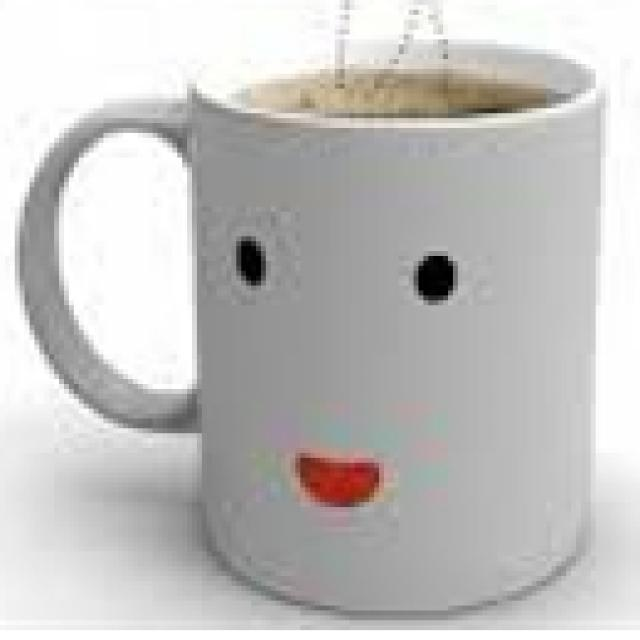taza: (19, 41, 608, 612)
